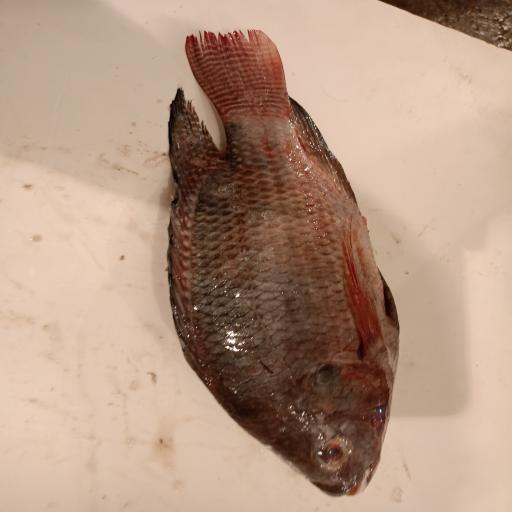Tilapia: (167, 29, 401, 497)
